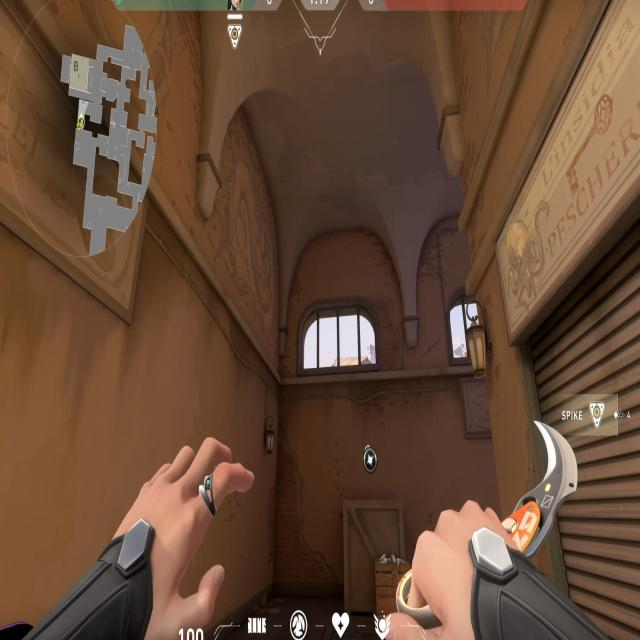B_Main_Wallbang: (336, 441, 411, 617)
Throwables: (296, 301, 381, 379), (445, 280, 483, 372)
